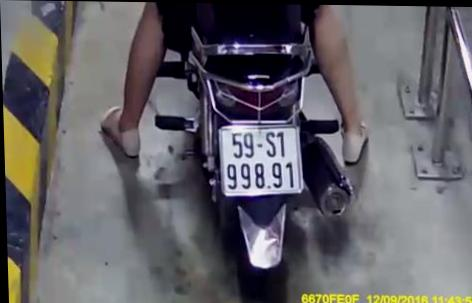License_Plate: (209, 121, 306, 201)
